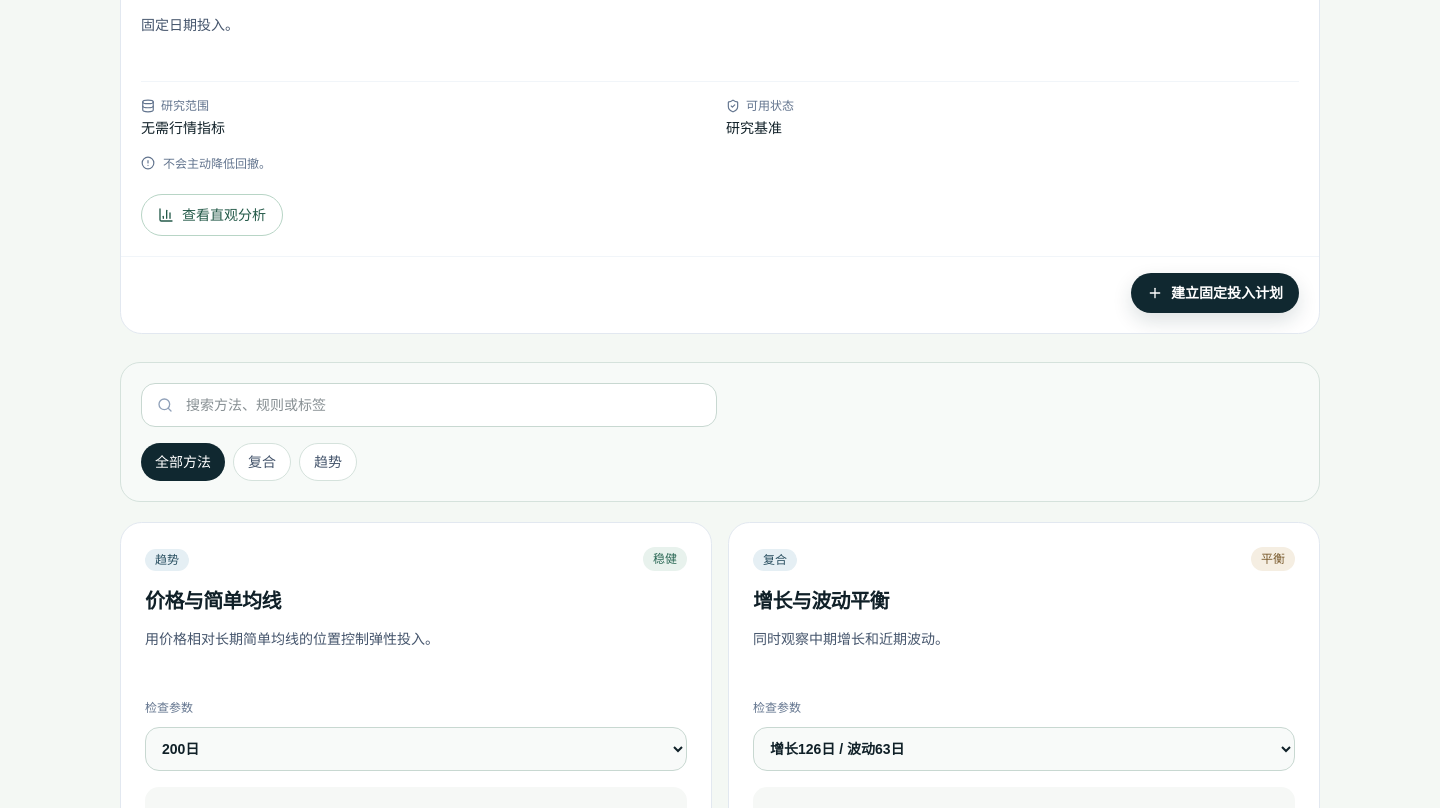
V2.1 consumer shell › filters grouped strategy families by searchable tags and category
(page scrolled)
In the search field named "搜索策略": x=429, y=405 [141,383,717,427], type "波动率"
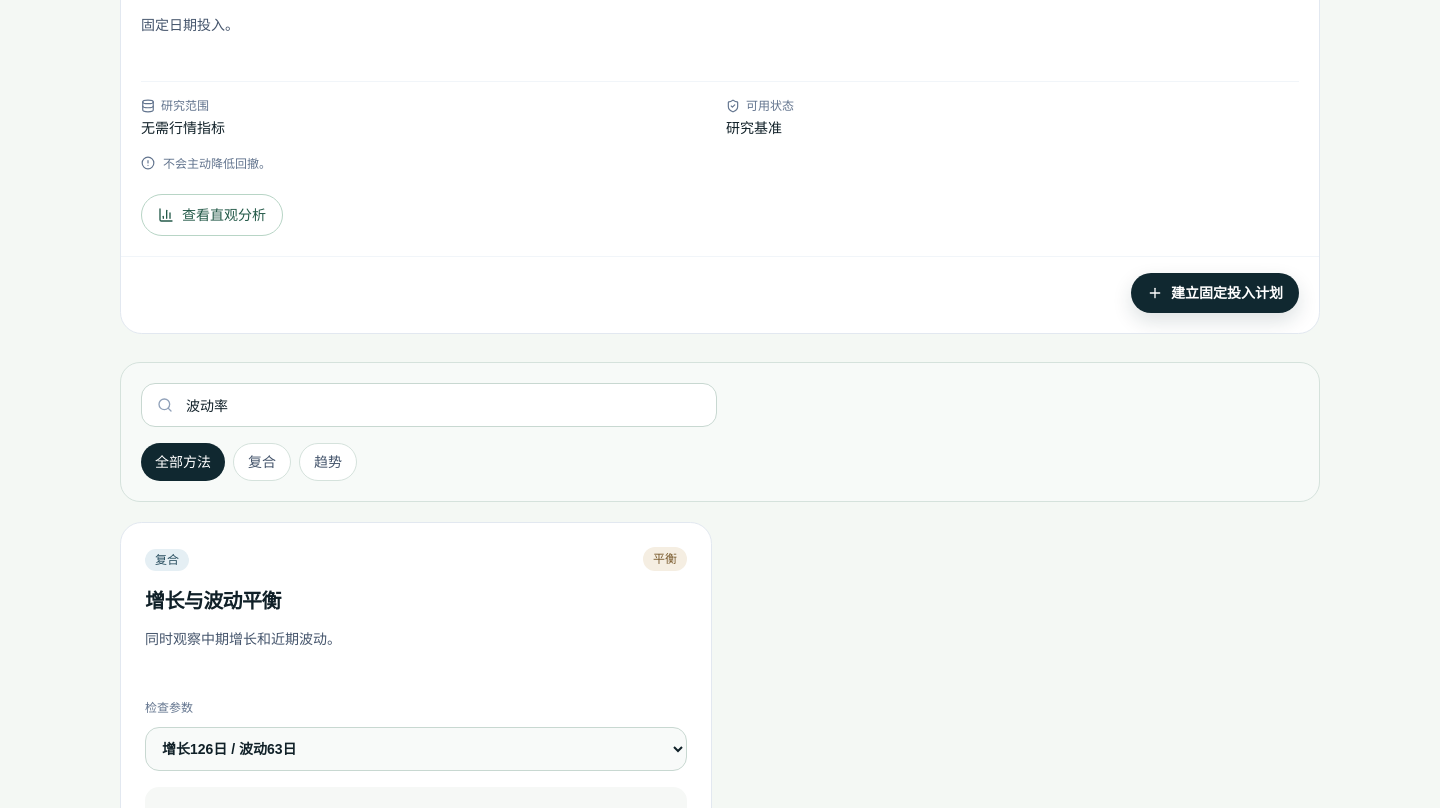
Expected: the heading "增长与波动平衡" is shown, [145,587,281,615]
Expected: the heading "价格与简单均线" is gone
Clear the search field named "搜索策略": x=429, y=405 [141,383,717,427]
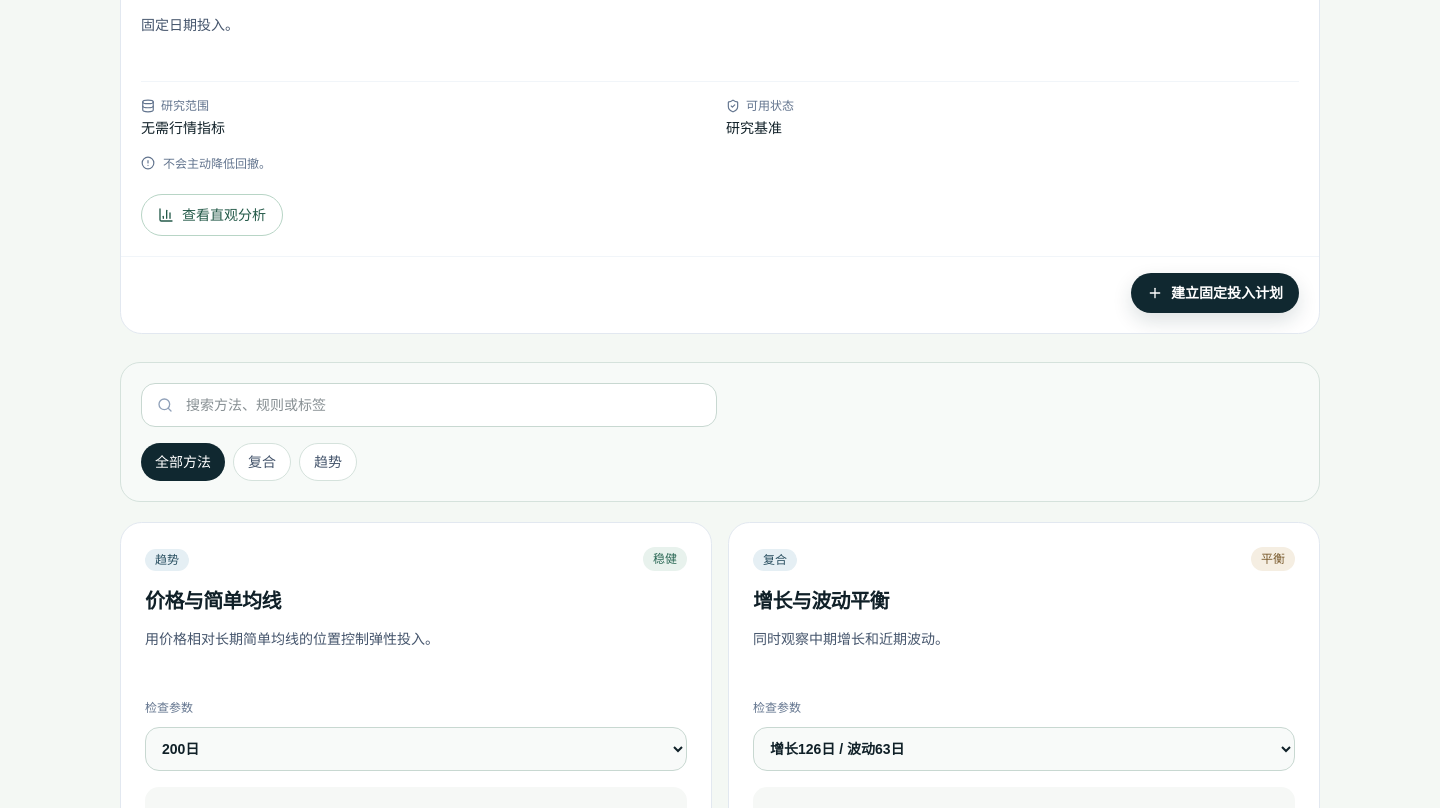
Click the button "趋势": x=328, y=462 [299,443,357,481]
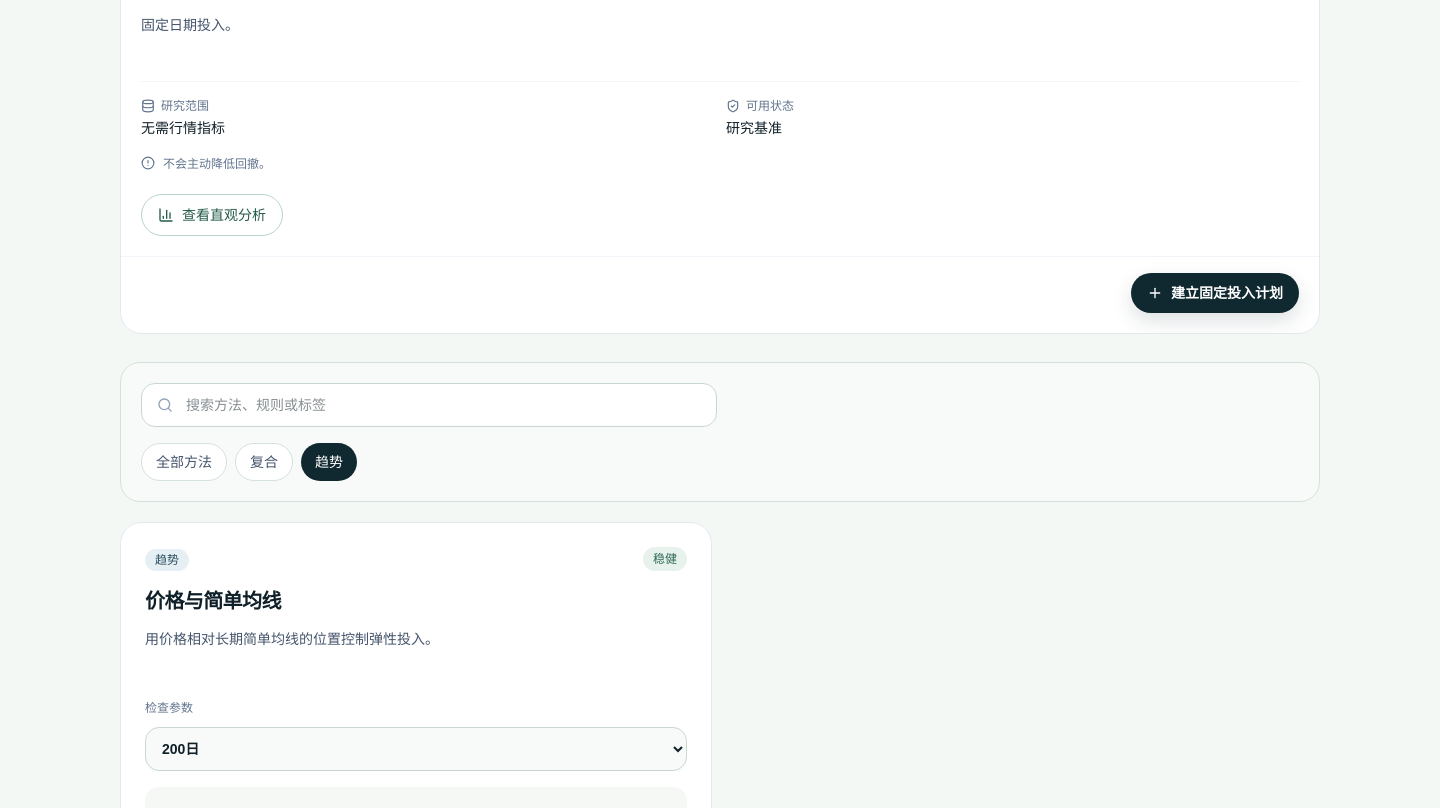
Expected: the heading "价格与简单均线" is shown, [145,587,281,615]
Expected: the heading "增长与波动平衡" is gone
